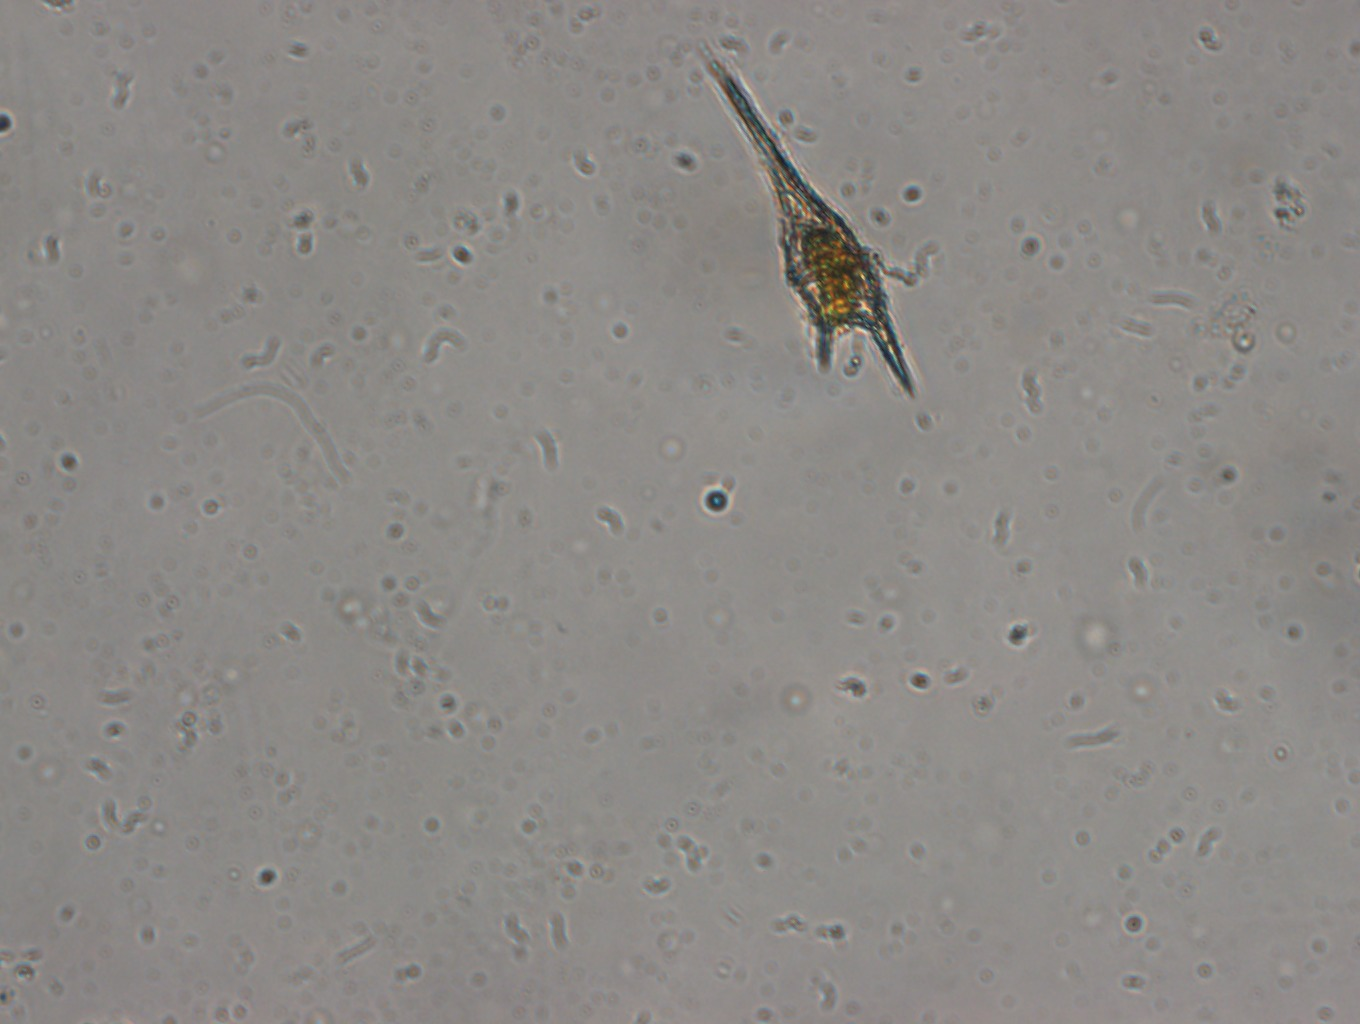ceratium furca: (701, 51, 920, 407)
